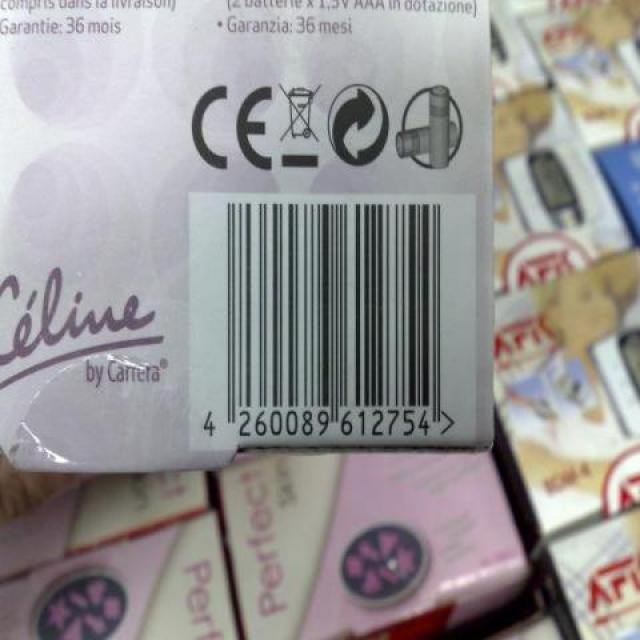Barcode: (194, 195, 467, 441)
